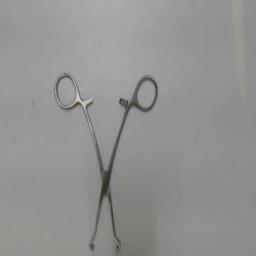Babcock Tissue Forceps: (51, 71, 161, 255)
